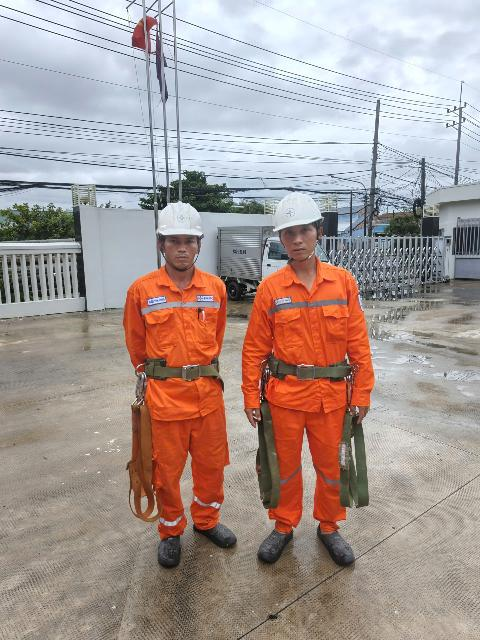harness: (258, 335, 368, 392), (139, 355, 231, 401)
helmet: (149, 201, 228, 255), (264, 181, 330, 244)
shoes: (311, 512, 374, 588), (250, 521, 304, 572), (188, 518, 246, 565), (156, 529, 192, 578)
